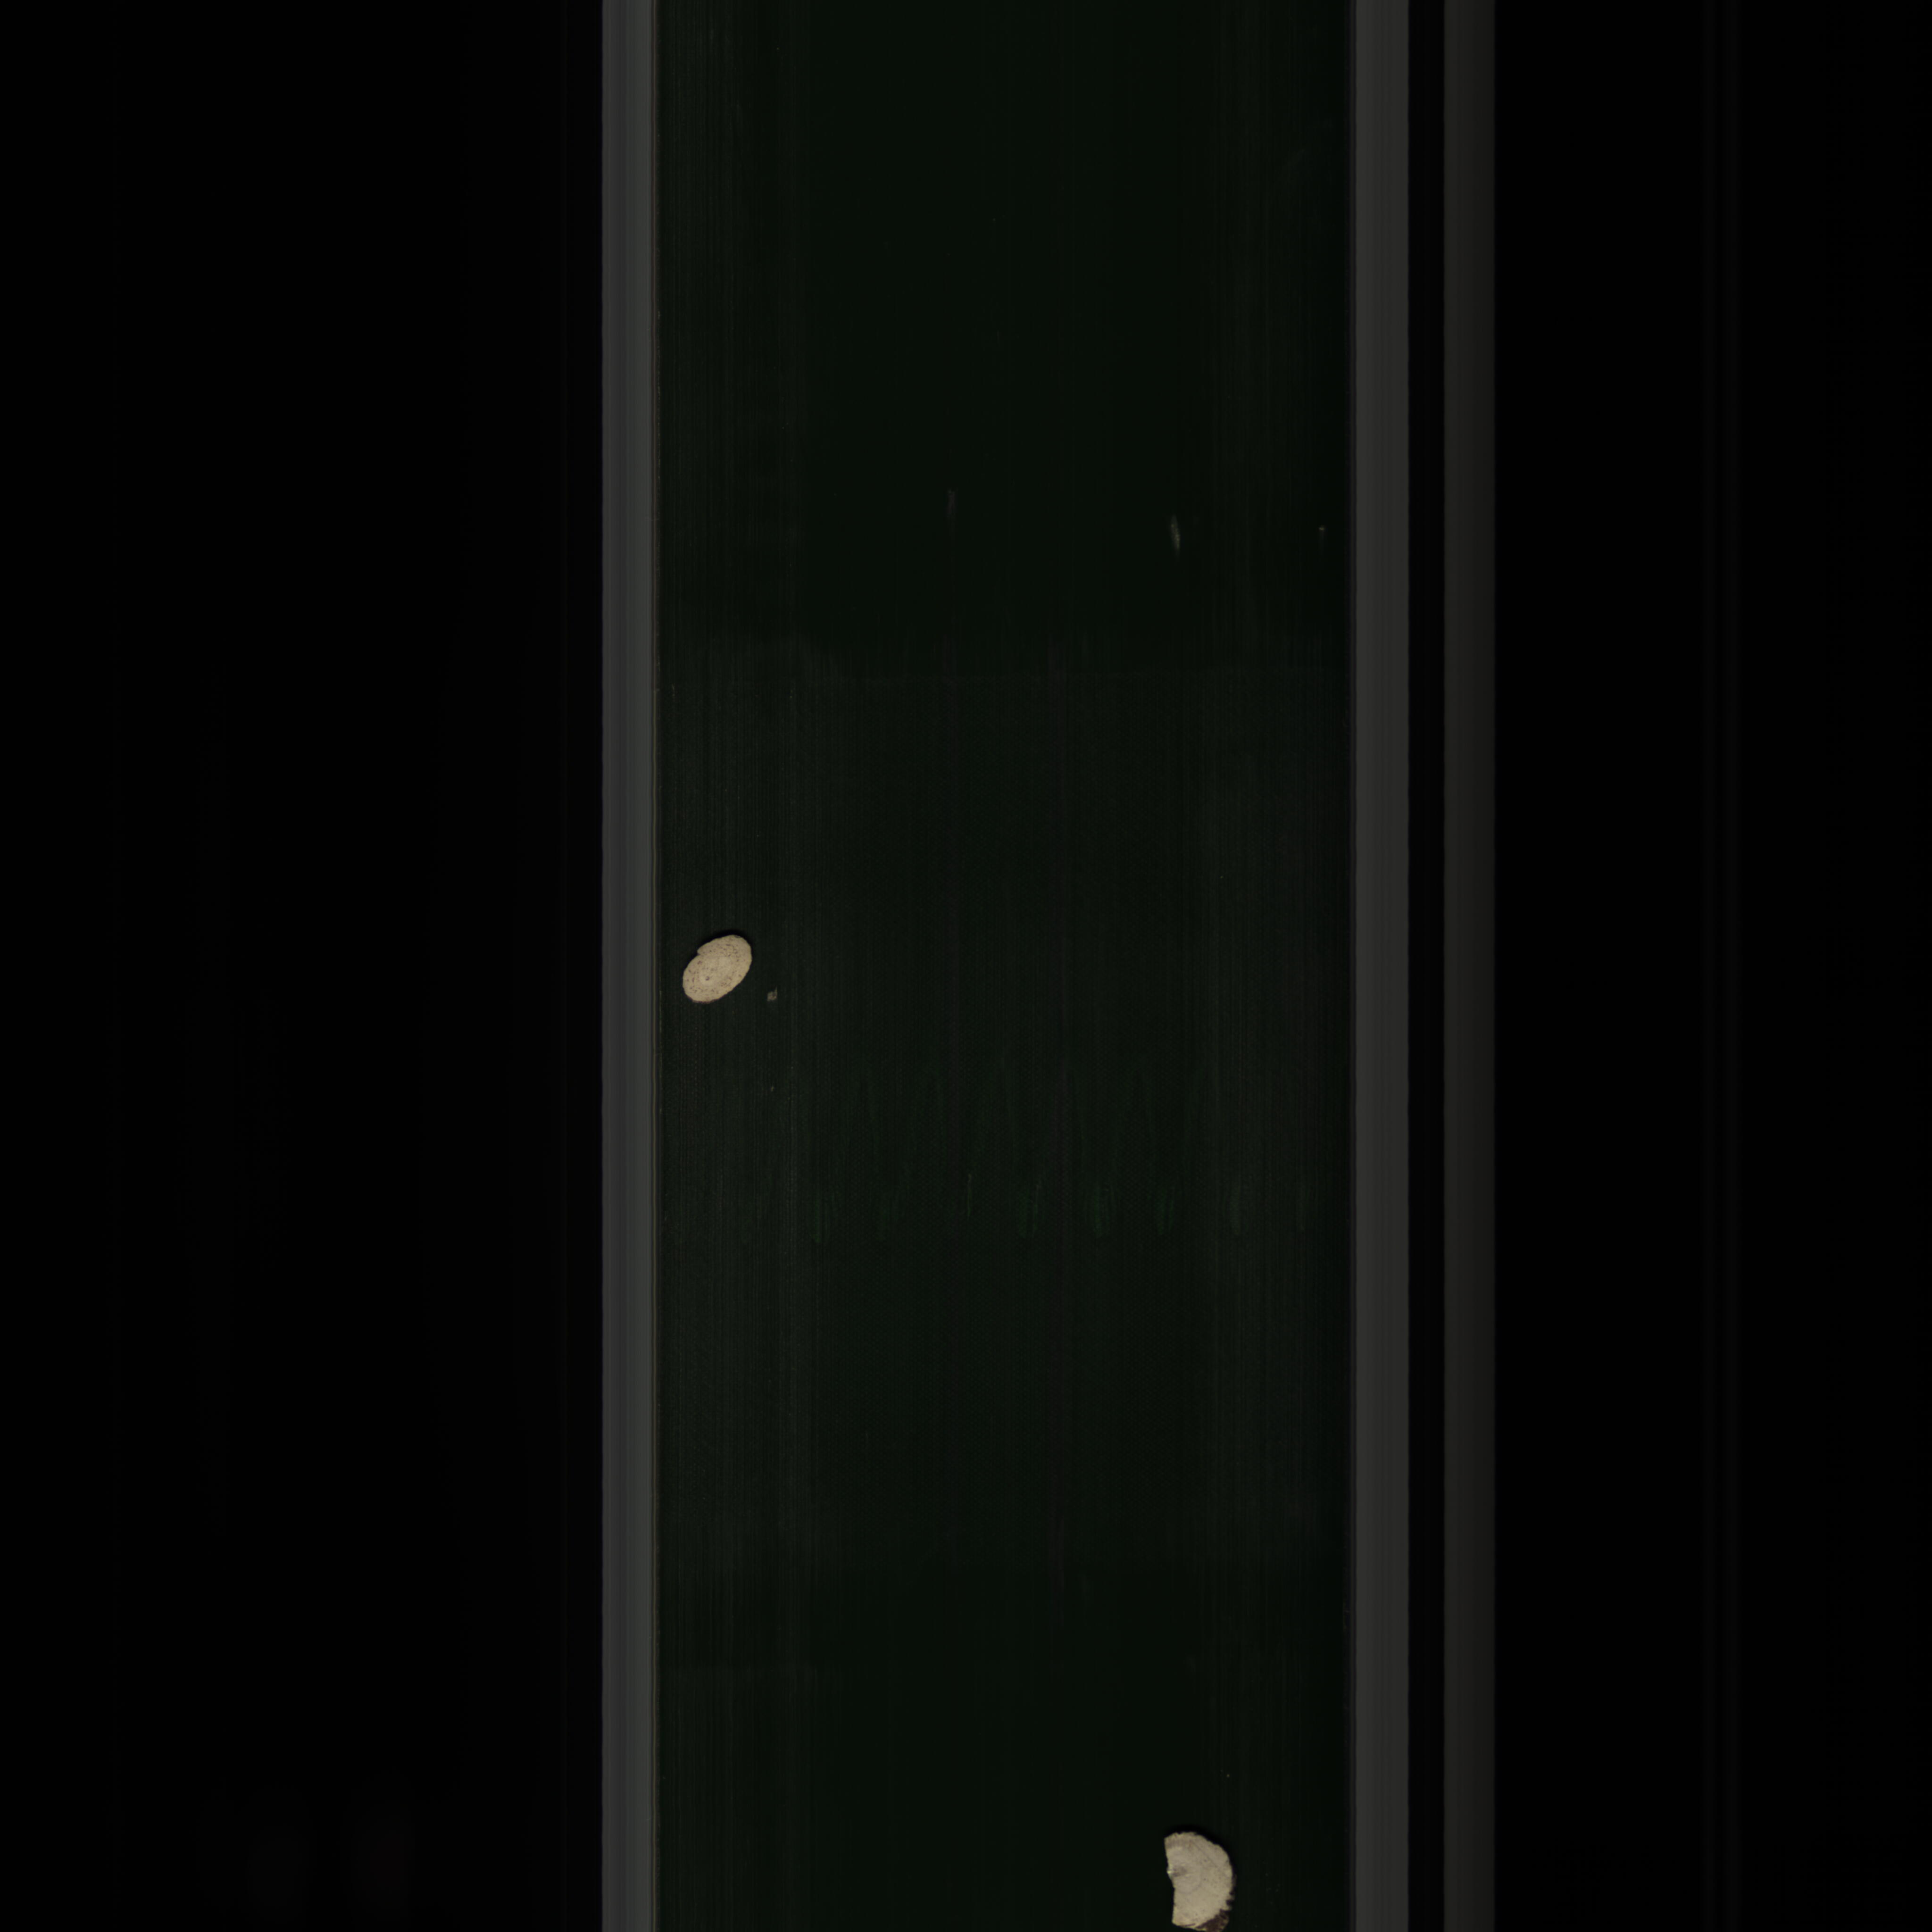debris: (1150, 1828, 1253, 1932)
